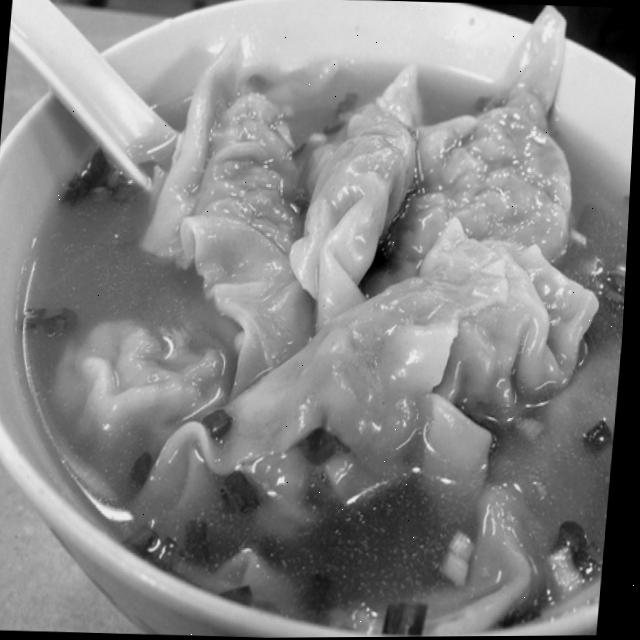带馅早点: (0, 13, 639, 640)
